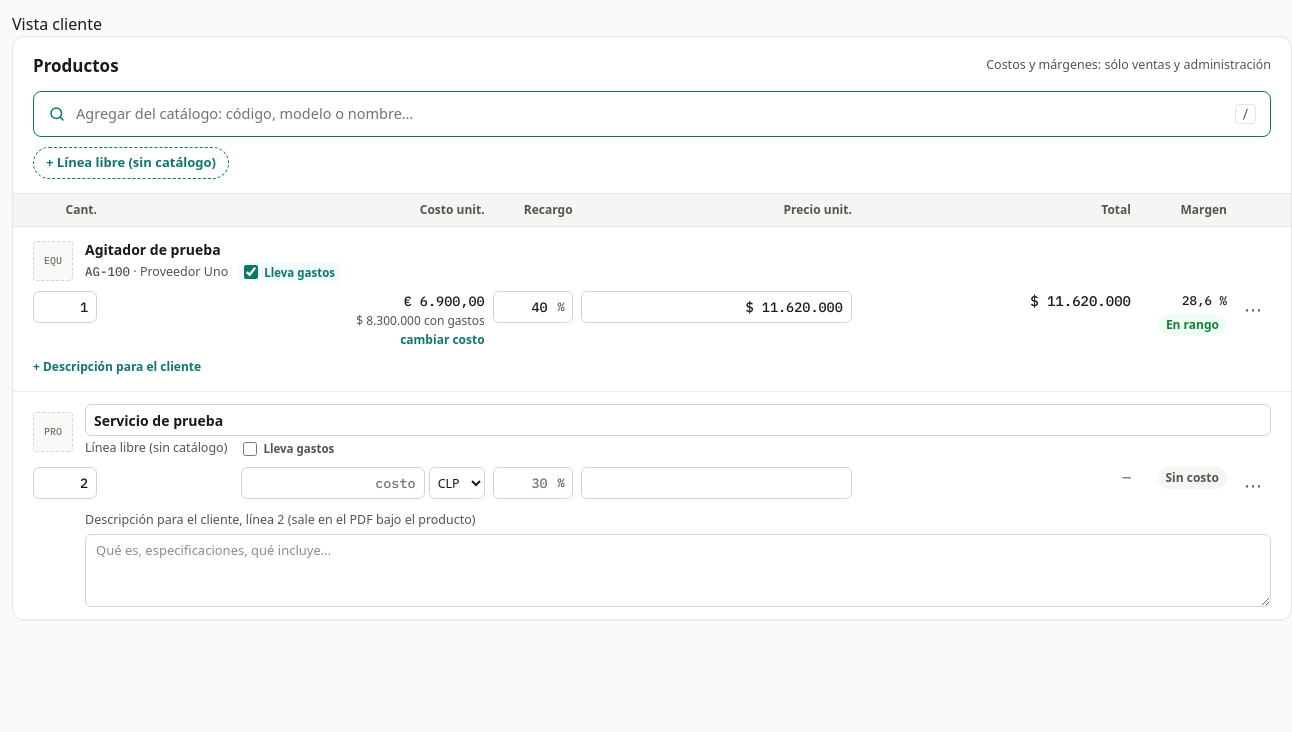
Test: ProductsSection — the table › typing a price prices the line by hand, and «volver a recargo» undoes it
This screenshot has width=1292, height=732.
Focus the field named "Precio unitario de la línea 1" at point(716, 307), box [581,291,852,323]
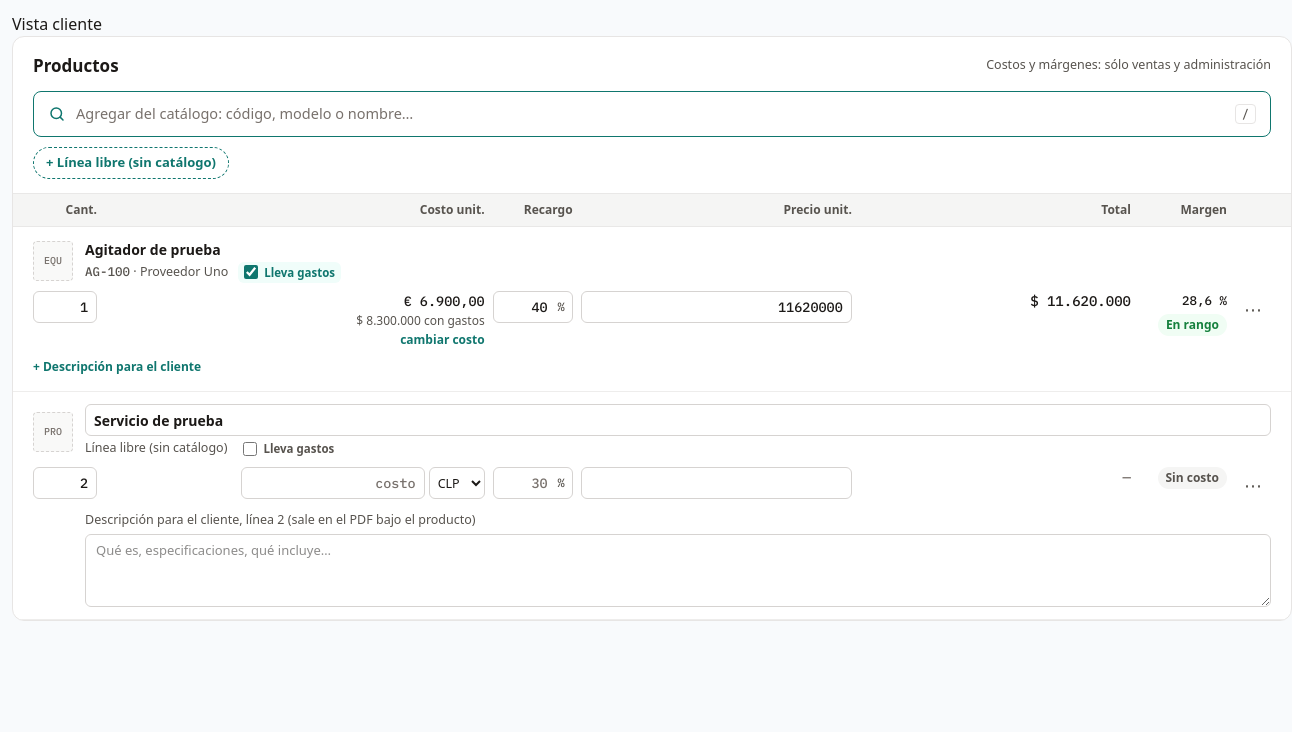
Now the field named "Precio unitario de la línea 1" holds "11620000"
Replace the text in the field named "Precio unitario de la línea 1" with "1.500.000" at point(716, 307), box [581,291,852,323]
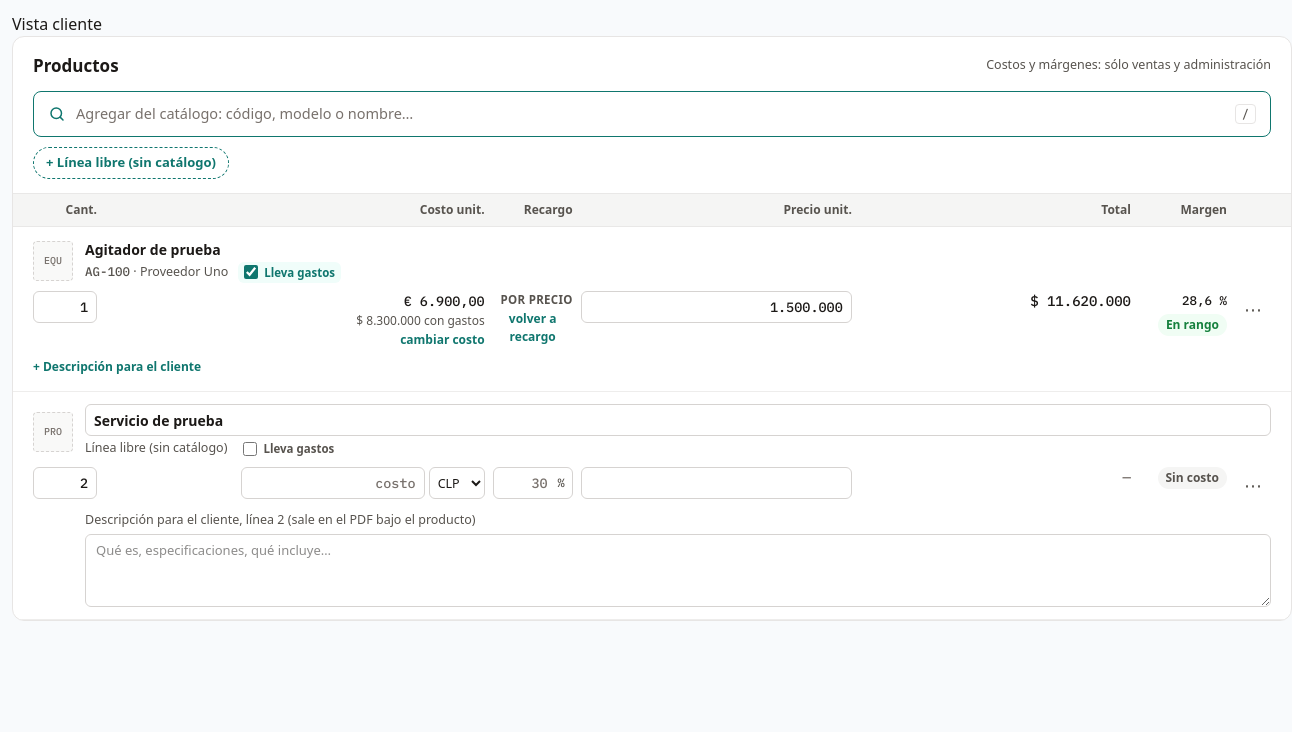
Leave the field named "Precio unitario de la línea 1", box [581,291,852,323]
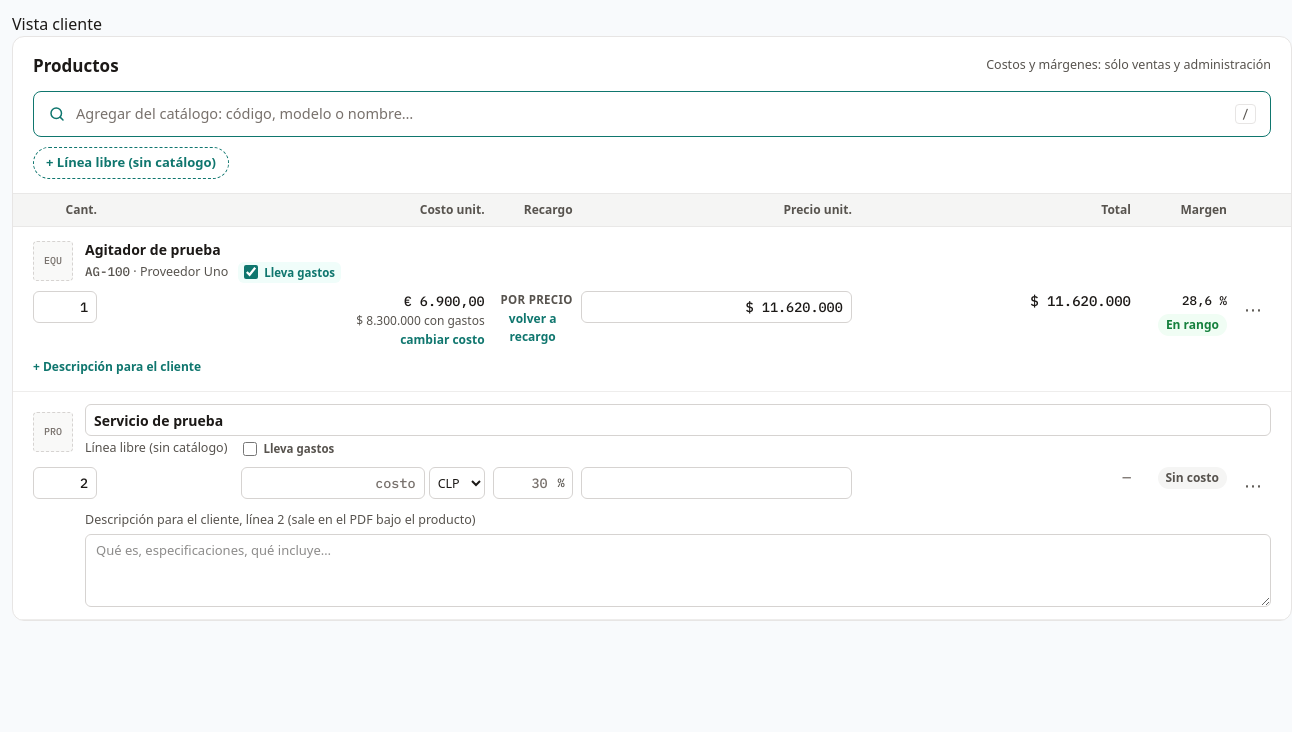
Now the text "por precio" is shown, box [501,291,573,308]
Click the button "volver a recargo".
click(533, 328)  # box [493,310,573,346]
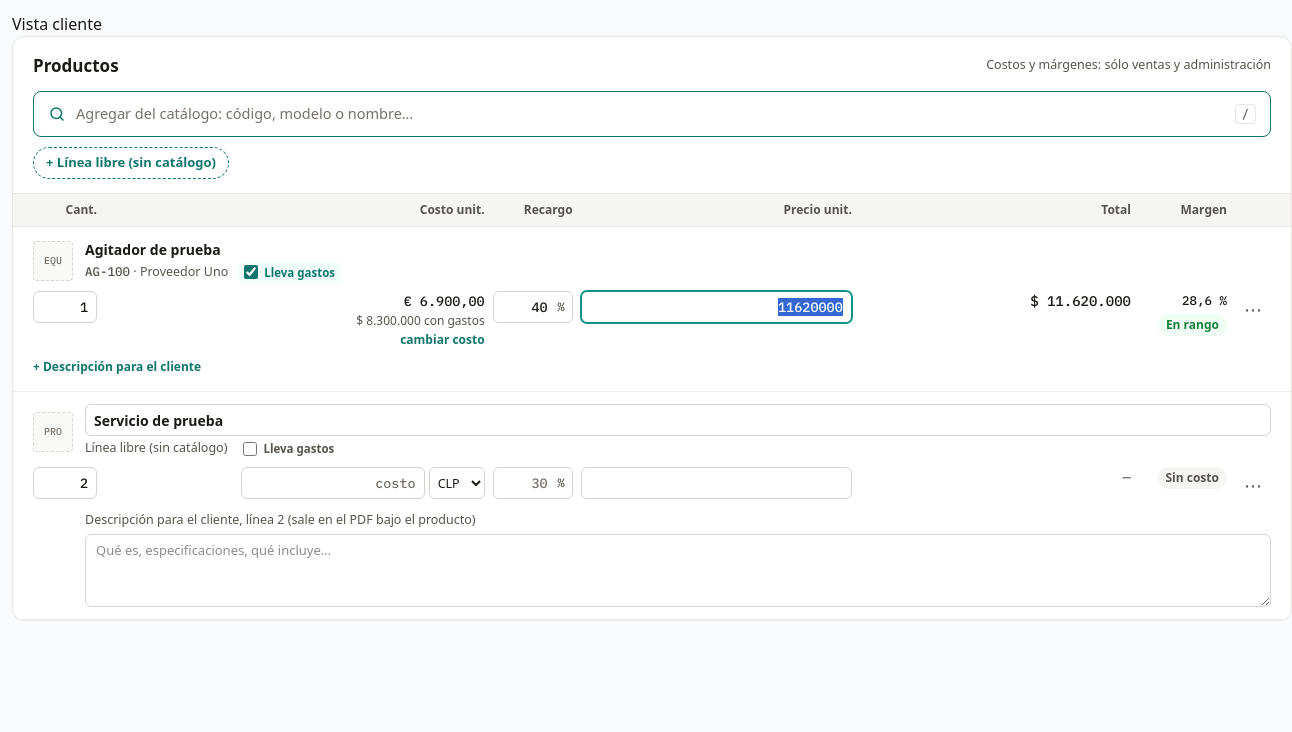
Now the field named "Recargo de la línea 1" holds "40", box [493,291,573,323]
